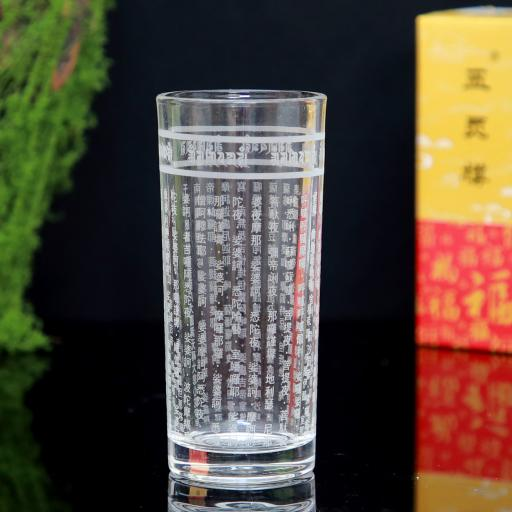bottle: (144, 77, 334, 489)
